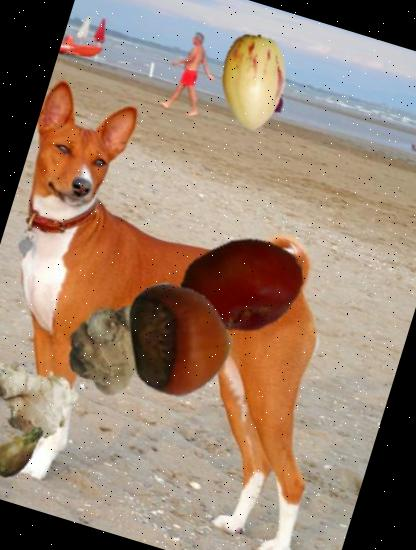Cactus: (0, 410, 59, 491)
Ginger: (51, 272, 198, 419), (0, 334, 90, 453)
Nectarine: (166, 209, 318, 362)
Nut: (109, 266, 253, 410)
Pepino: (194, 22, 314, 143)
